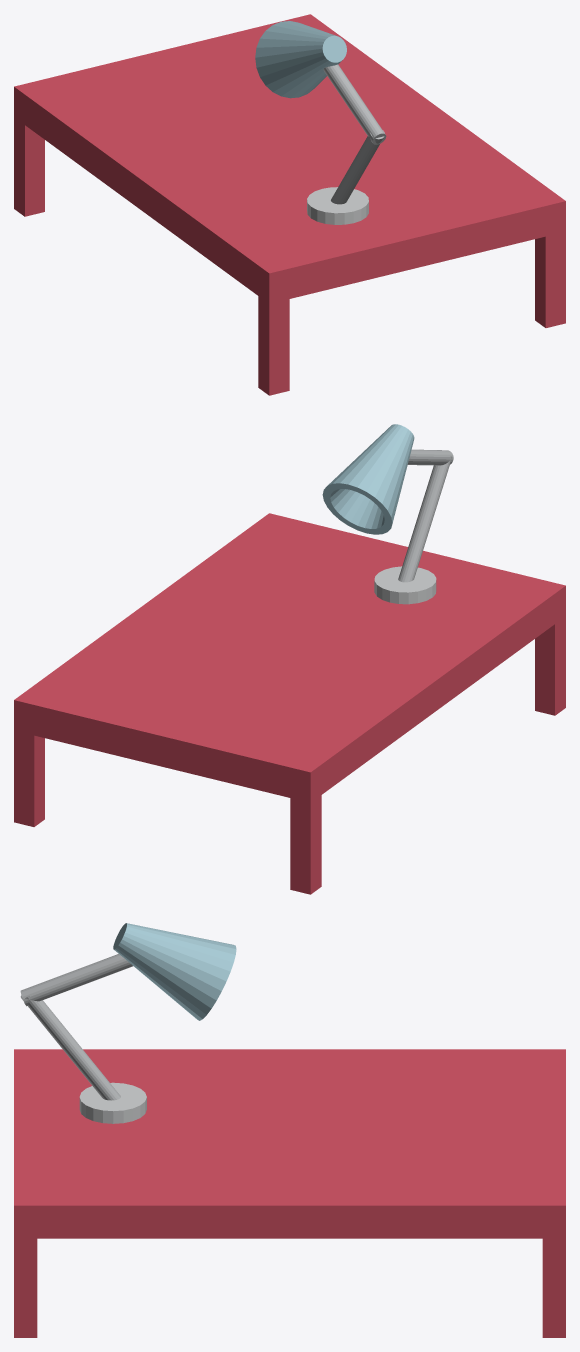
The model's file is Spectacular Migelo.glb.
3 renders of one model, top to bottom at view 1: azimuth 30°, elevation 25°; view 2: azimuth 150°, elevation 25°; view 3: azimuth 270°, elevation 25°, orthographic. The views are drawn at different scales.
Parts seen in each view (by area): view 1: Mesh_Mesh_head_geo.001_lambert2SG.001; view 2: Mesh_Mesh_head_geo.001_lambert2SG.001; view 3: Mesh_Mesh_head_geo.001_lambert2SG.001.
Boxes of the visible parts, x1,y1,x2,y2 form: Mesh_Mesh_head_geo.001_lambert2SG.001: (14, 14, 565, 395); Mesh_Mesh_head_geo.001_lambert2SG.001: (14, 424, 565, 894); Mesh_Mesh_head_geo.001_lambert2SG.001: (14, 923, 565, 1337).
Bounding box in the file's own units: 44 × 41.6 × 65.58.
